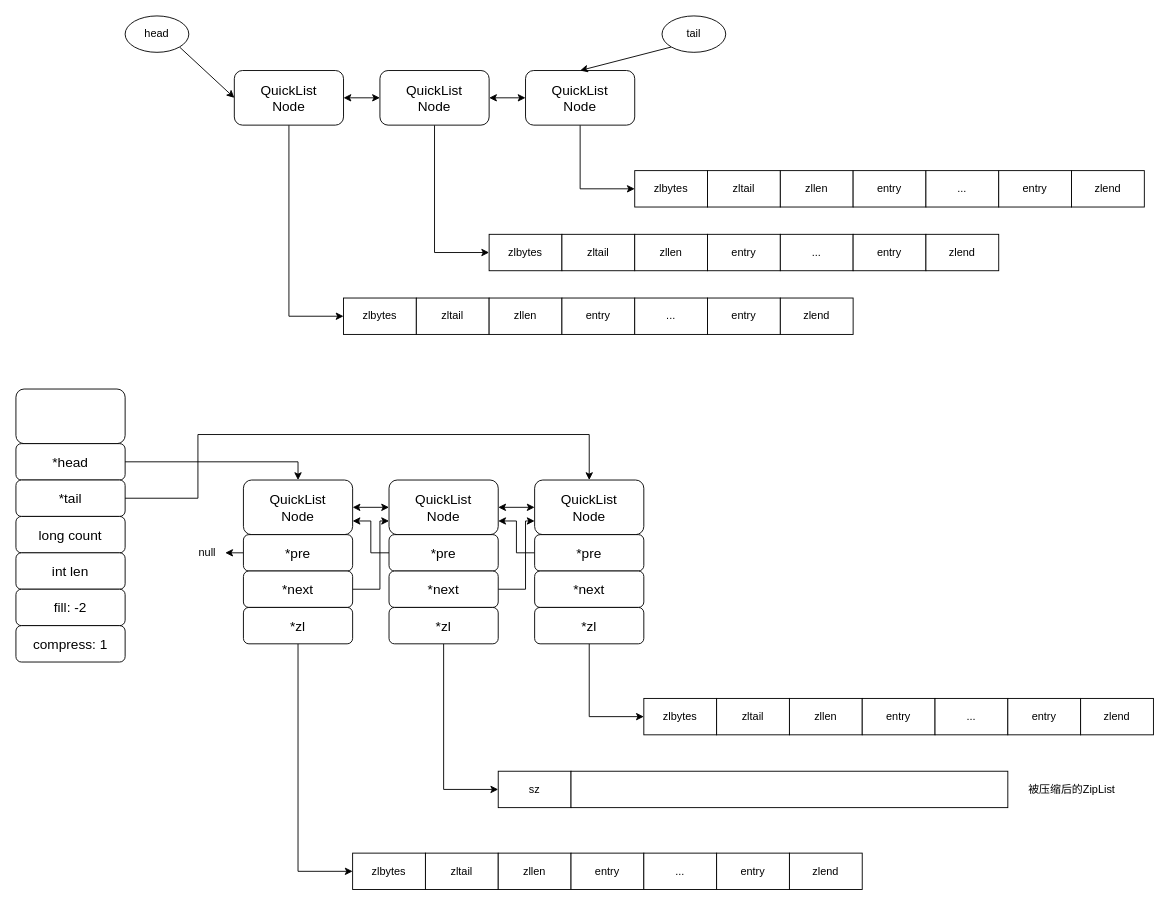
The diagram is 1169 pixels wide and 905 high, and some of its shapes have lost their labels. The shapes that lost their labels are listed below. From the top down, each one's centre as x and y in pixels, then its label:
[70,416]: QuickList
[789,789]: 0x62 0x34 0x05 0x20 0x33 0x40 0x04 0x00 0x3
